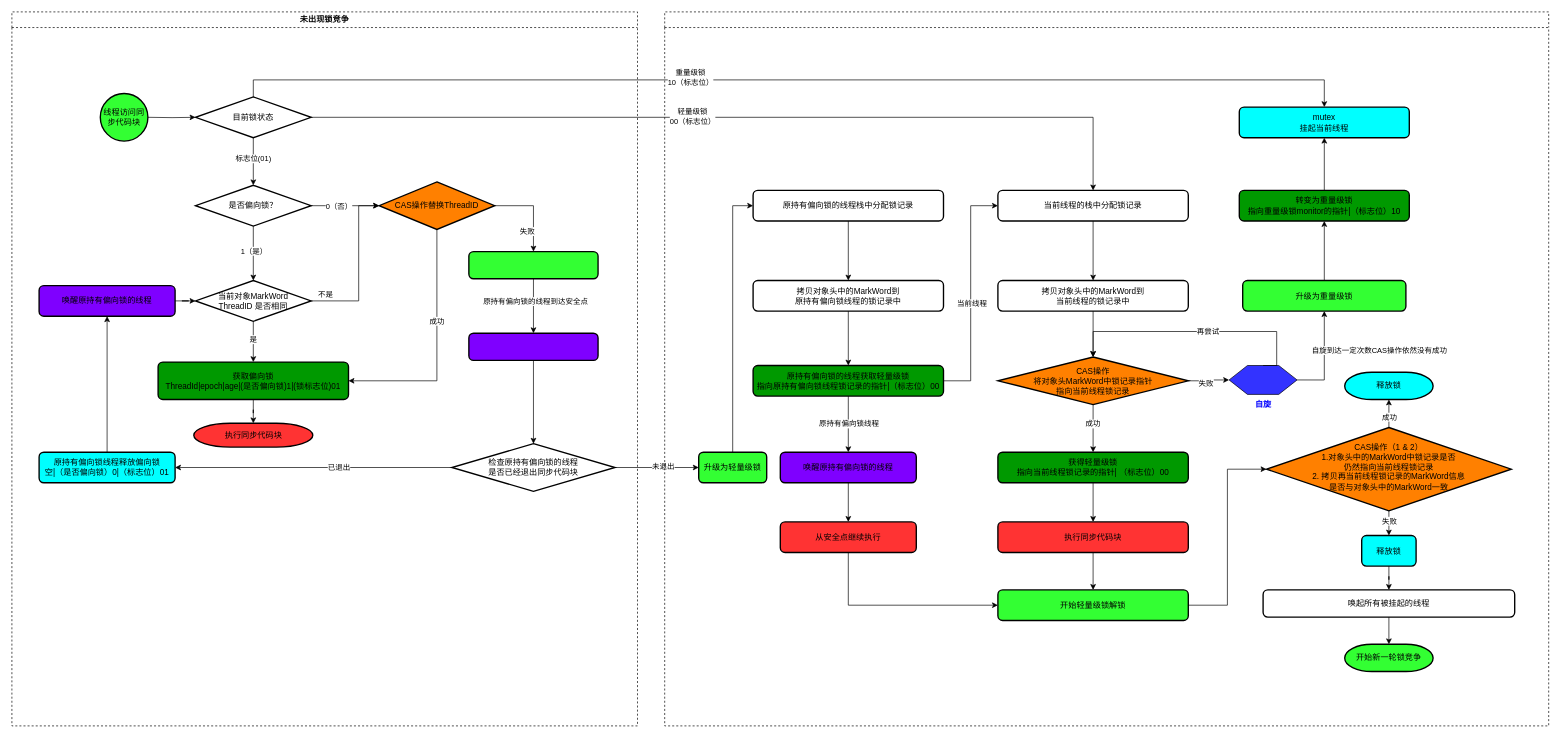
Image size: 1561x738. Some labels were removed from this diagram. The centre of each missing label's shape, as x and y in pixels:
"产生锁竞争" belongs at [1106,368].
"开始偏向锁撤销 （等待竞争出现才释放锁的机制）" belongs at [533,265].
"暂停原持有锁的线程 （STW）" belongs at [533,346].
